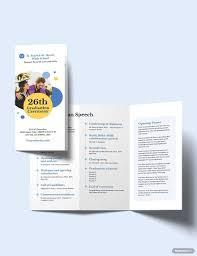paper: (15, 45, 182, 210)
